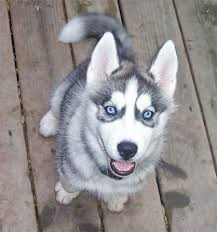husky: (62, 32, 192, 191)
